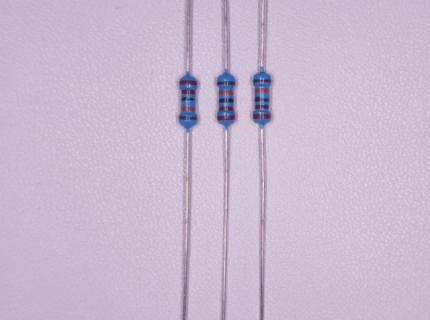Black band: (255, 97, 270, 101), (181, 97, 195, 101), (219, 99, 233, 103)
Brown band: (180, 116, 197, 120), (253, 79, 271, 82), (218, 82, 235, 85)
Orange band: (181, 106, 195, 111), (219, 90, 233, 94), (255, 88, 269, 92)
Red band: (253, 114, 271, 119), (217, 116, 235, 120), (219, 106, 233, 111), (180, 81, 197, 85), (181, 90, 195, 94), (255, 105, 269, 109)
